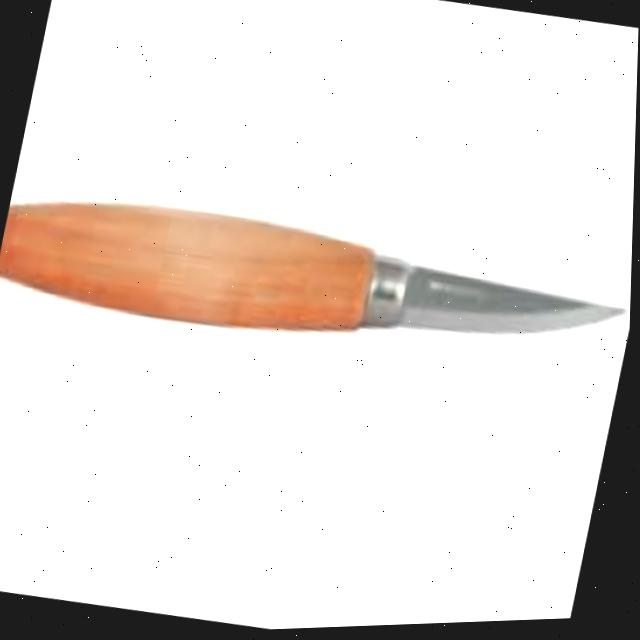knife: (0, 161, 636, 404)
